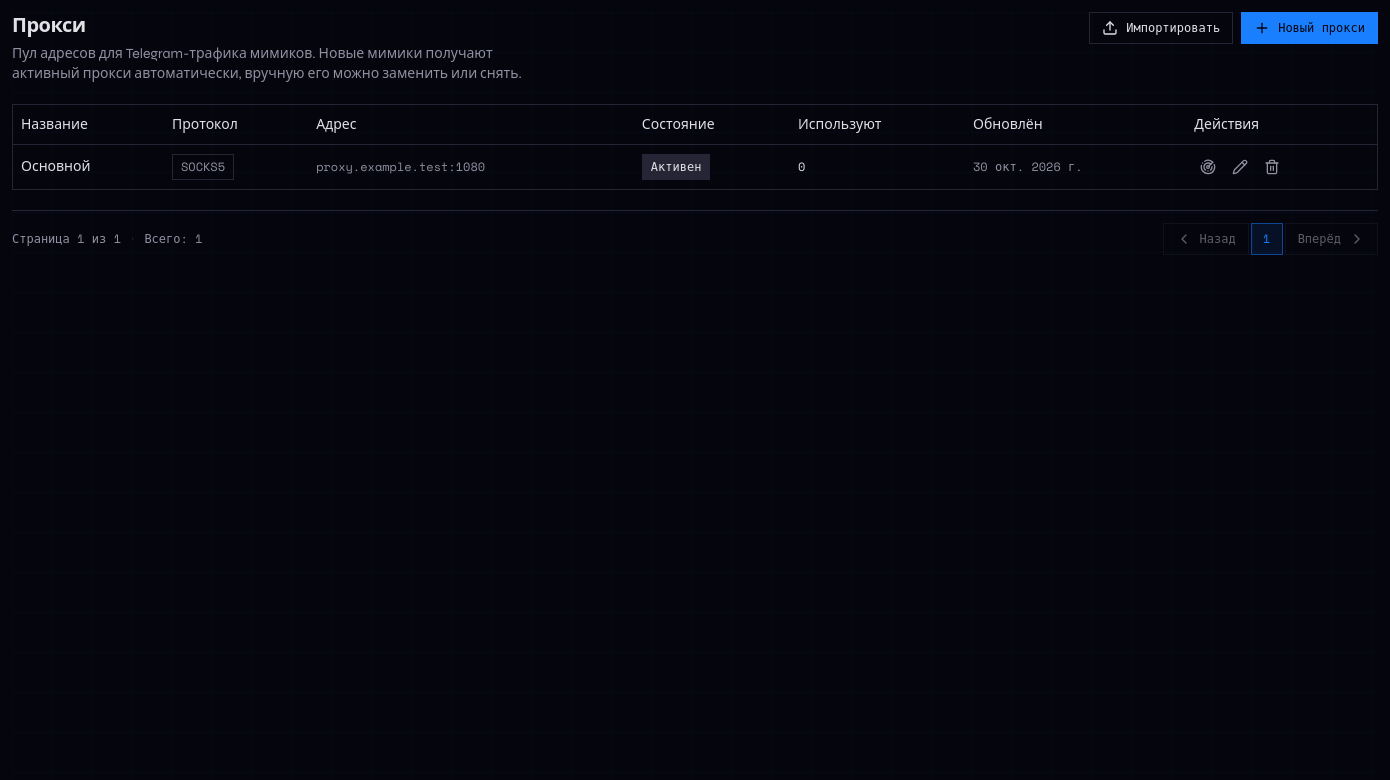
Test case: AdminProxies › reports a successful proxy check
The width and height of the screenshot is (1390, 780).
Click the button named "Проверить прокси Основной".
click(1208, 167)  # box [1194, 153, 1222, 181]
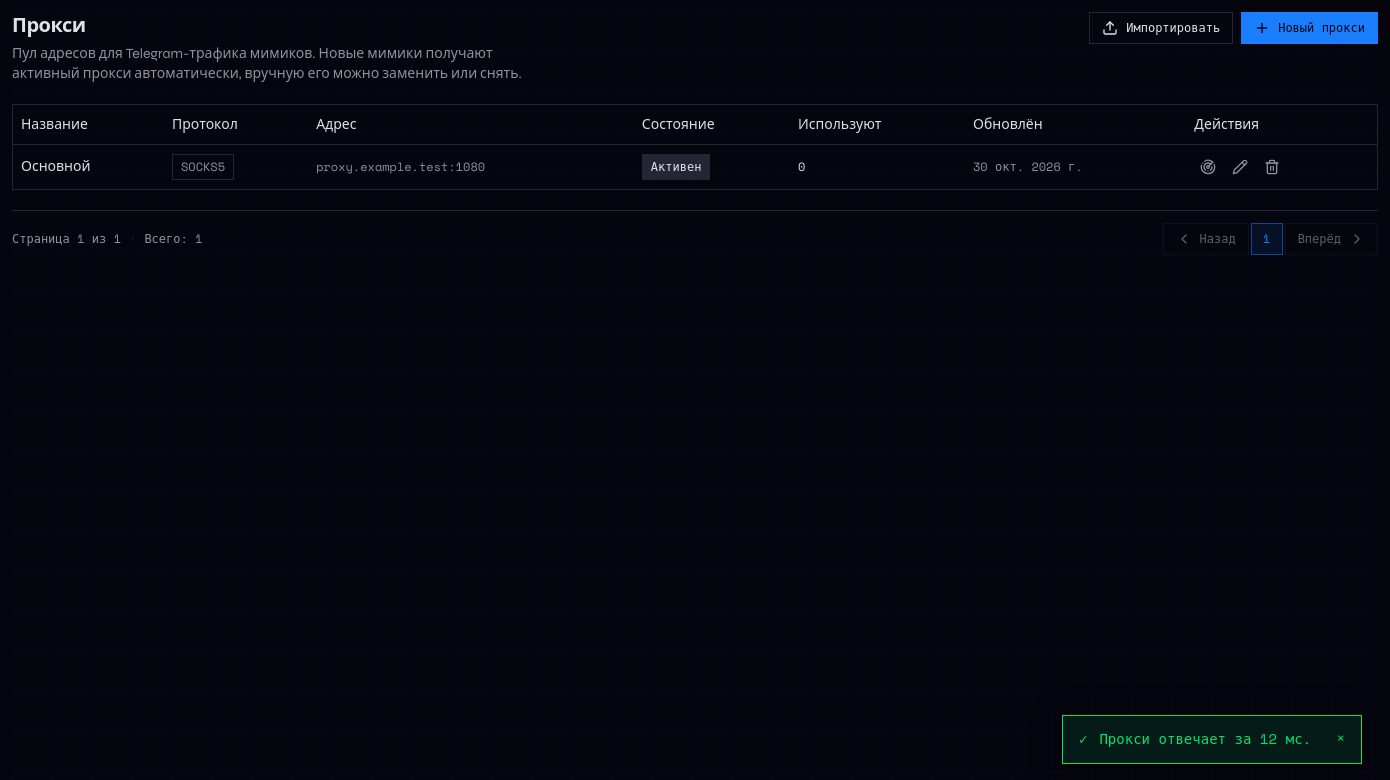
Result: the text "Прокси отвечает за 12 мс." is shown at [1099, 728, 1316, 751]
